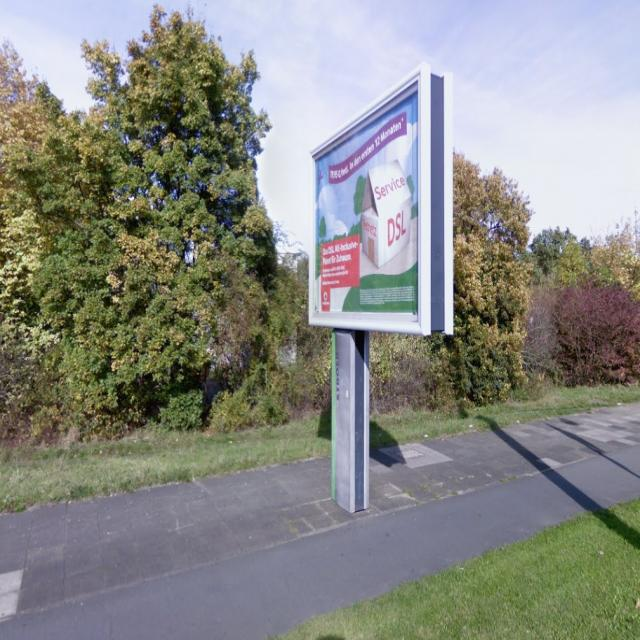Werbetafel frei: (307, 62, 429, 330)
